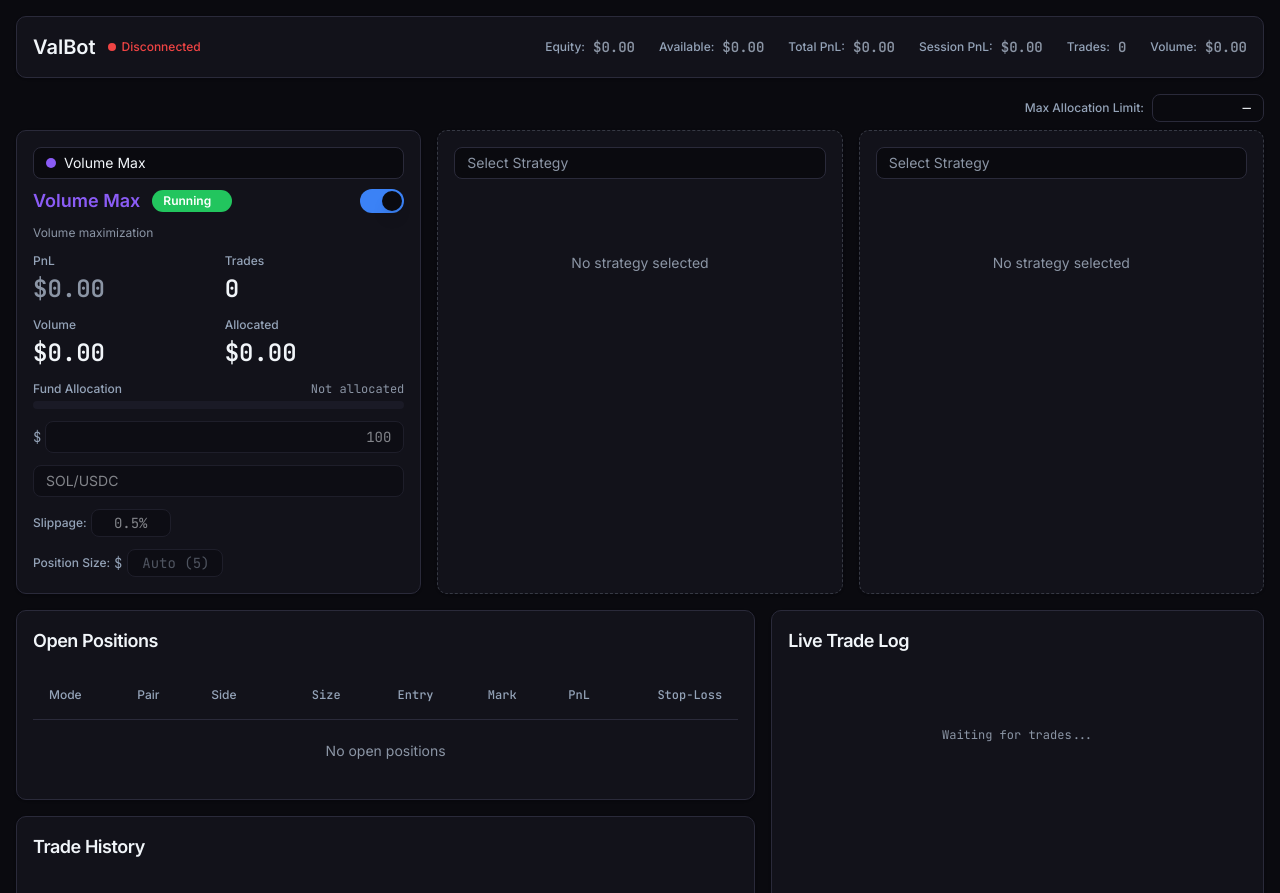
Test case: App (Dashboard Layout) › warning indicator shown when slot has running strategy
Click the button with aria-label "Select strategy" at [105, 162], box left=33, top=147, right=404, bottom=179
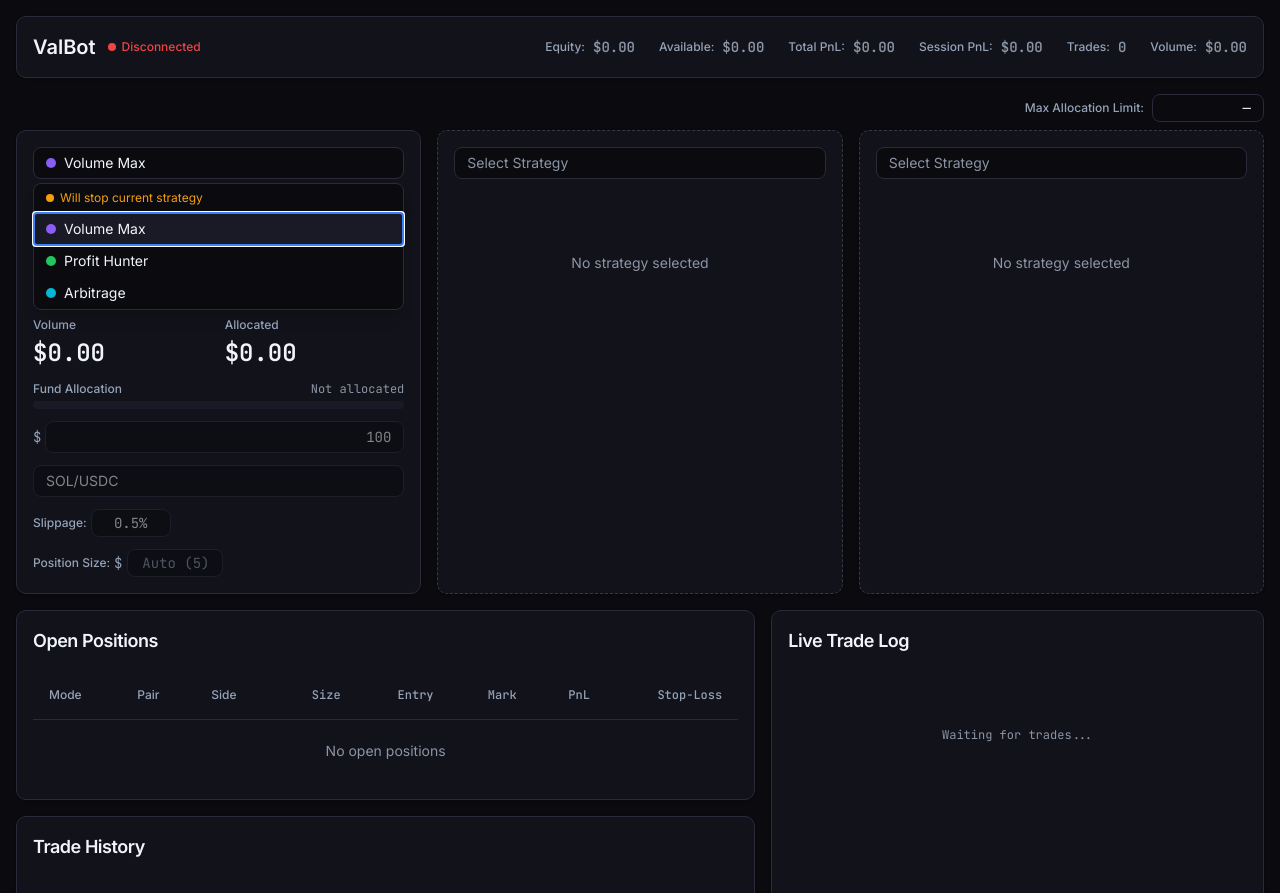
Result: the text "Will stop current strategy" is shown at left=34, top=184, right=403, bottom=213
